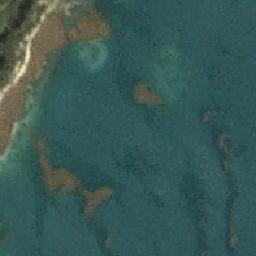debris: (33, 136, 81, 203), (82, 182, 113, 220), (130, 81, 162, 106), (216, 132, 232, 174)
